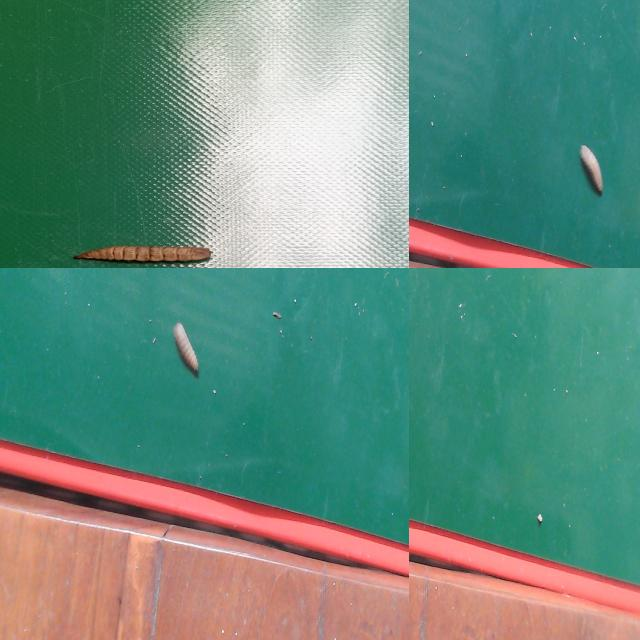Maggot: (72, 246, 212, 267), (171, 323, 200, 378), (580, 147, 606, 197)
